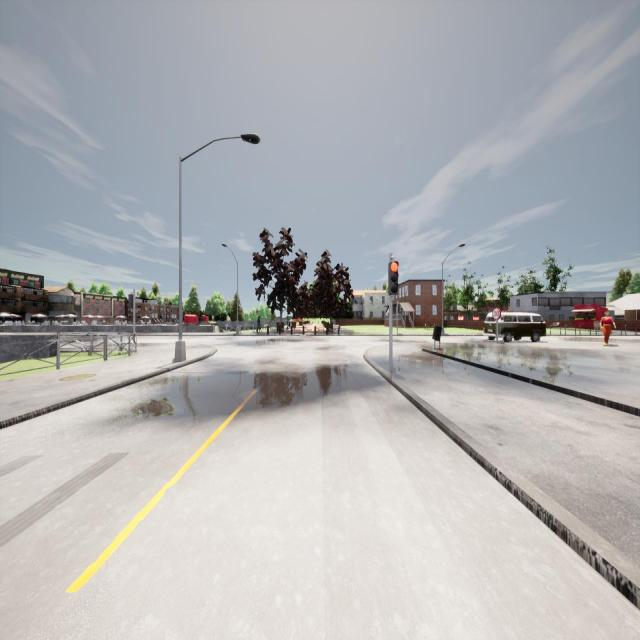Pedestrian: (600, 310, 616, 346), (256, 315, 262, 334)
Traffic_Signs: (492, 308, 501, 319)
Vehicle: (484, 312, 546, 342)
traffic_light: (388, 261, 399, 295), (129, 294, 133, 309)
